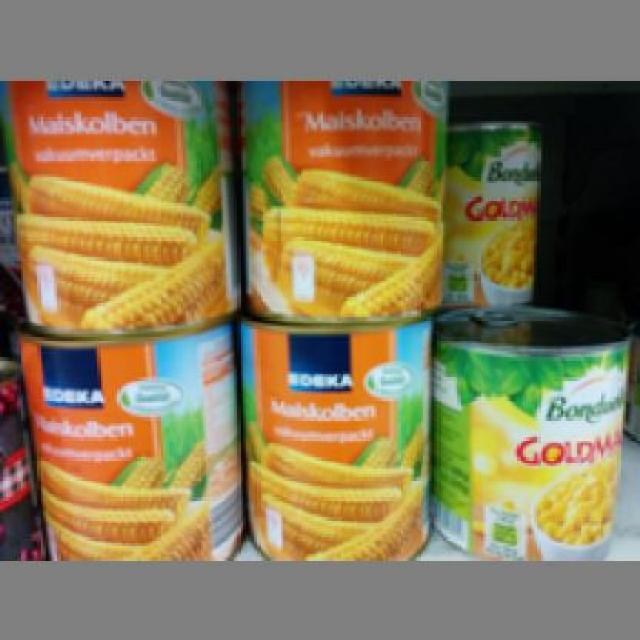Corn: (2, 80, 232, 326), (228, 77, 442, 323), (12, 323, 235, 554), (432, 302, 628, 555), (234, 314, 437, 554), (443, 100, 540, 297)
